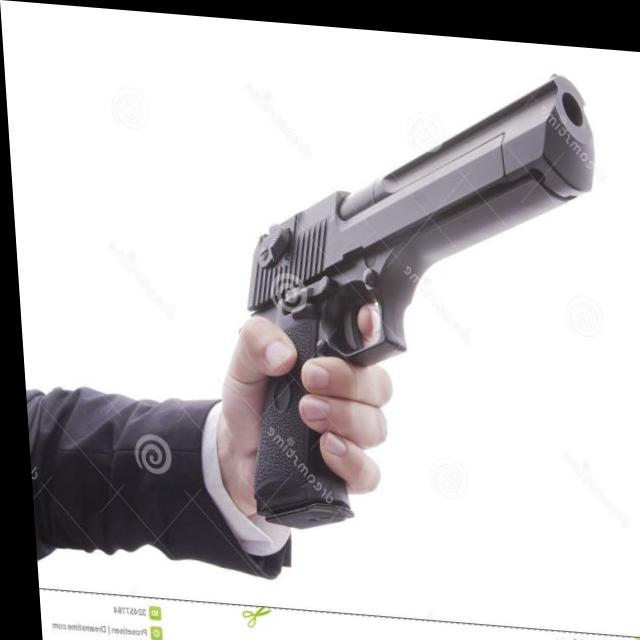handgun: (209, 38, 620, 571)
